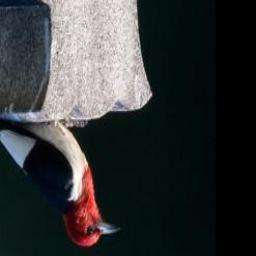Woodpecker: (0, 92, 125, 252)
